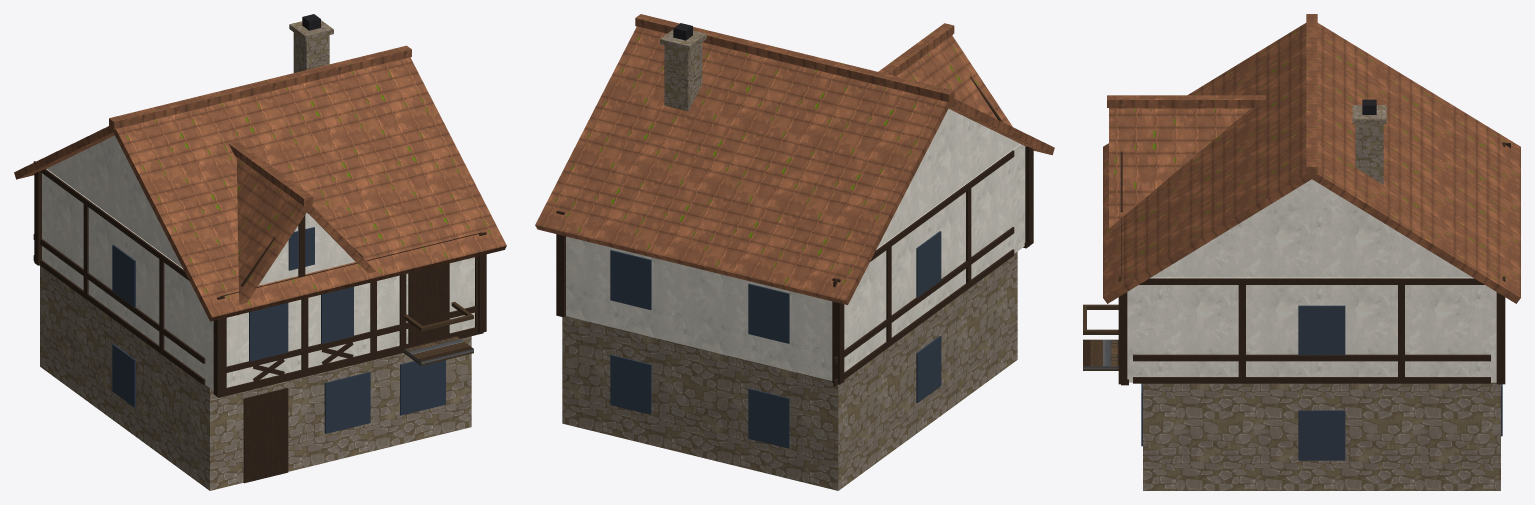
The model's file is timber_house.glb.
The picture shows the model from 3 angles, left to right: view 1: azimuth 30°, elevation 25°; view 2: azimuth 150°, elevation 25°; view 3: azimuth 270°, elevation 25°; orthographic projection. The views are drawn at different scales.
Visible parts, largest first — view 1: timber_house; view 2: timber_house; view 3: timber_house.
Part boxes in pixels (x1,y1,x2,y2): timber_house: (14, 14, 506, 490); timber_house: (535, 14, 1054, 490); timber_house: (1083, 14, 1520, 490).
Bounding box in the file's own units: 9.1 × 10.02 × 11.
6 materials, 4 textured.
